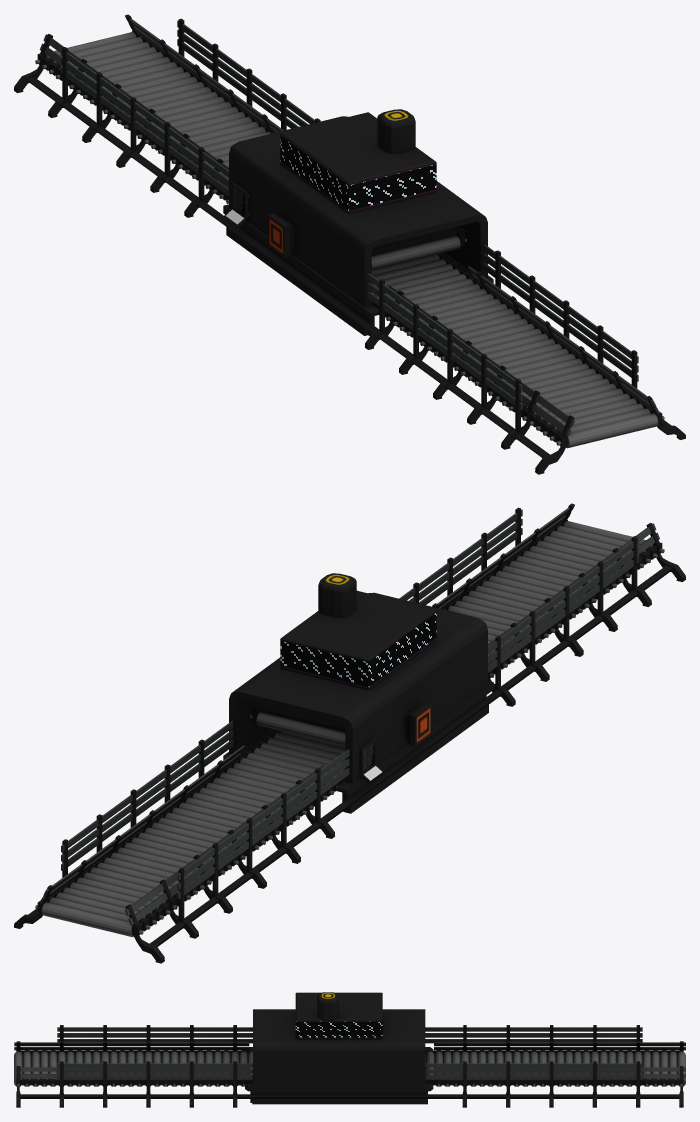
Rendered from plate_rolling_machine.obj.
The picture shows the model from 3 angles, top to bottom: view 1: azimuth 30°, elevation 25°; view 2: azimuth 150°, elevation 25°; view 3: azimuth 270°, elevation 25°; orthographic projection. The views are drawn at different scales.
Parts seen in each view (by area): view 1: Cube.253_Cube.256; view 2: Cube.253_Cube.256; view 3: Cube.253_Cube.256.
Boxes of the visible parts, <box> form: Cube.253_Cube.256: <box>14,14,685,474</box>; Cube.253_Cube.256: <box>14,503,685,963</box>; Cube.253_Cube.256: <box>14,992,685,1107</box>.
Bounding box in the file's own units: 5 × 5 × 31.
